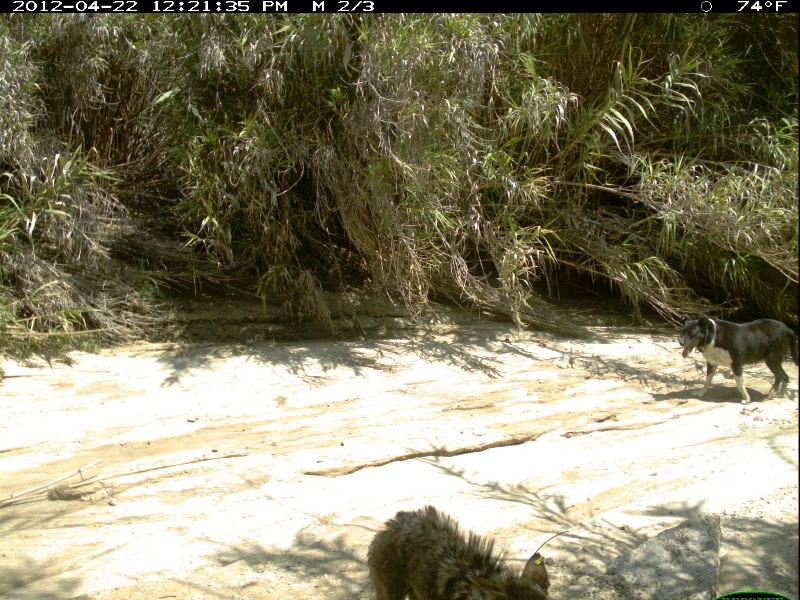dog: (363, 503, 551, 600), (674, 311, 800, 407)
